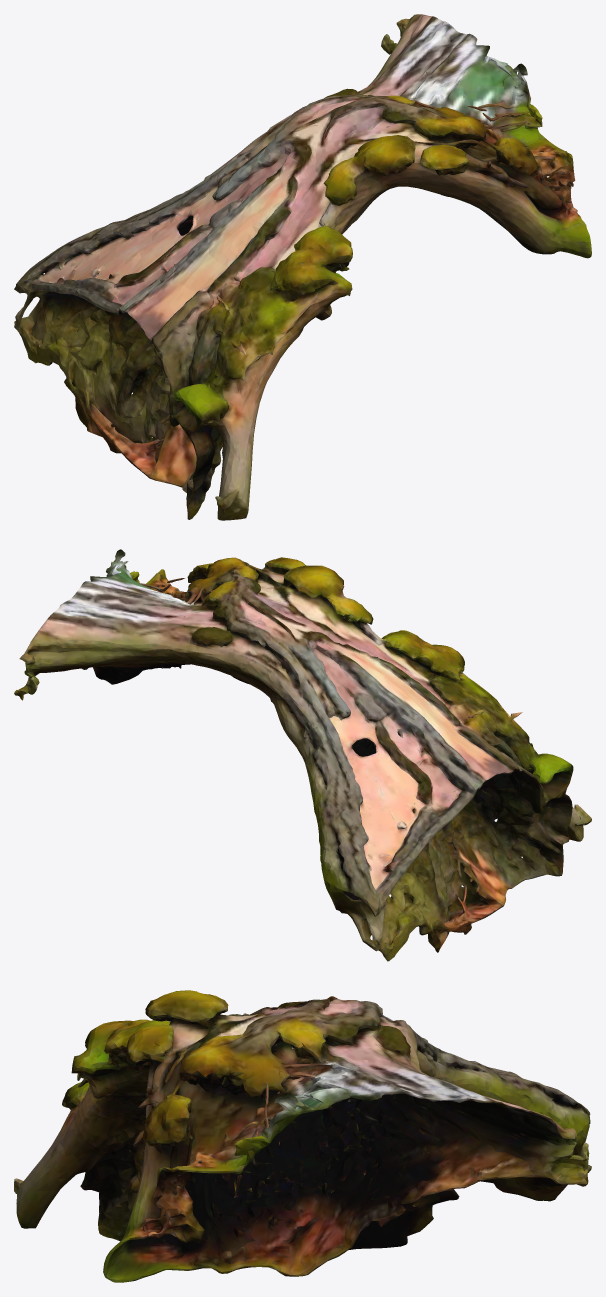
File: swamp_stump_mossy_01.glb
3 renders of one model, top to bottom at view 1: azimuth 30°, elevation 25°; view 2: azimuth 150°, elevation 25°; view 3: azimuth 270°, elevation 25°, orthographic. The views are drawn at different scales.
Parts seen in each view (by area): view 1: geometry_0; view 2: geometry_0; view 3: geometry_0.
Part boxes in pixels (left/top/right/bottom): geometry_0: left=14, top=14, right=591, bottom=520; geometry_0: left=14, top=549, right=591, bottom=961; geometry_0: left=14, top=990, right=591, bottom=1282.
Size of the model in its own units: 1 by 0.7132 by 0.9346.
1 material, 1 textured.
